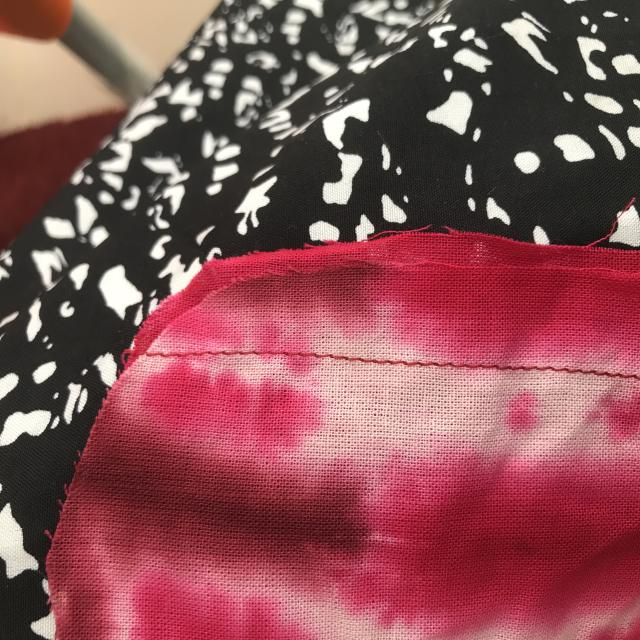good: (510, 356, 604, 386), (366, 350, 440, 378), (187, 343, 264, 365)
